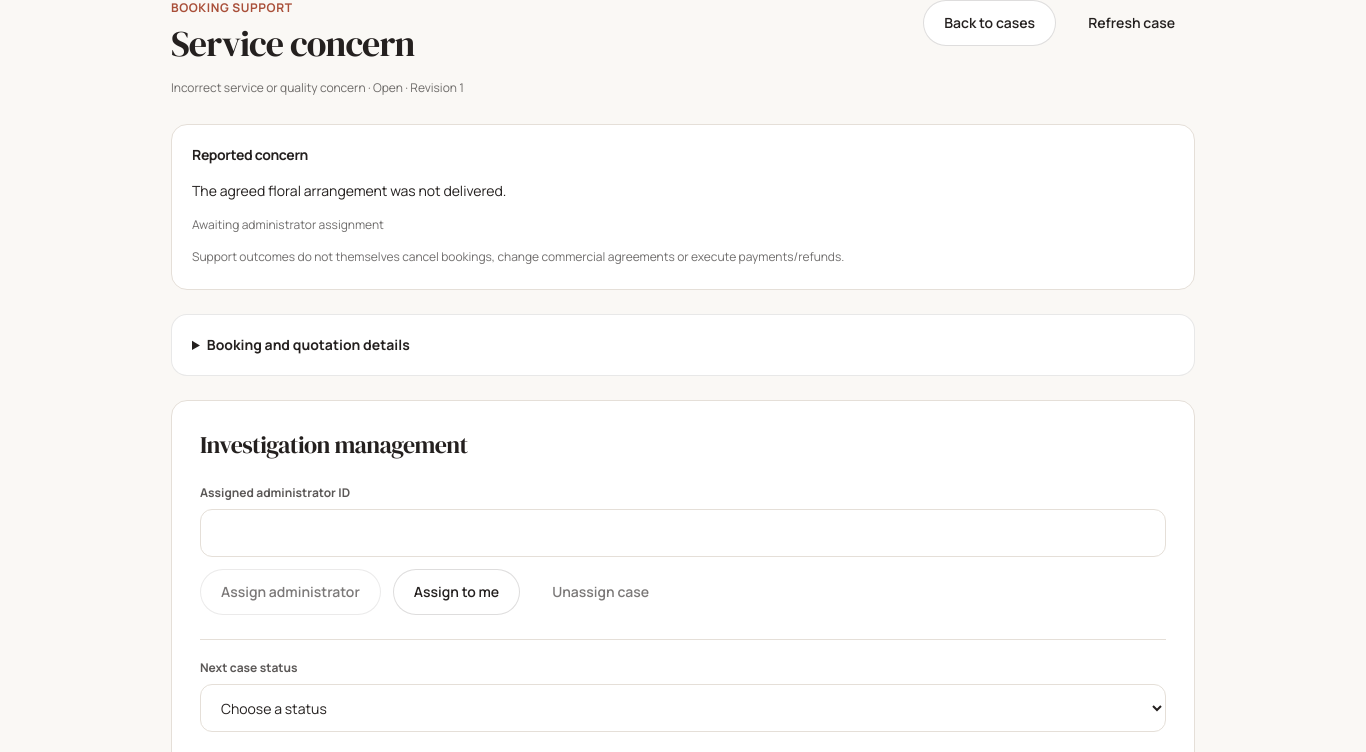
booking support interfaces › requires a public resolution decision before resolving a case
Expected: the heading "Service concern" is shown, [171,19,414,68]
Select "Resolved" in the dropdown labelled "Next case status" at coordinates (683, 708), box [200,684,1166,732]
(page scrolled)
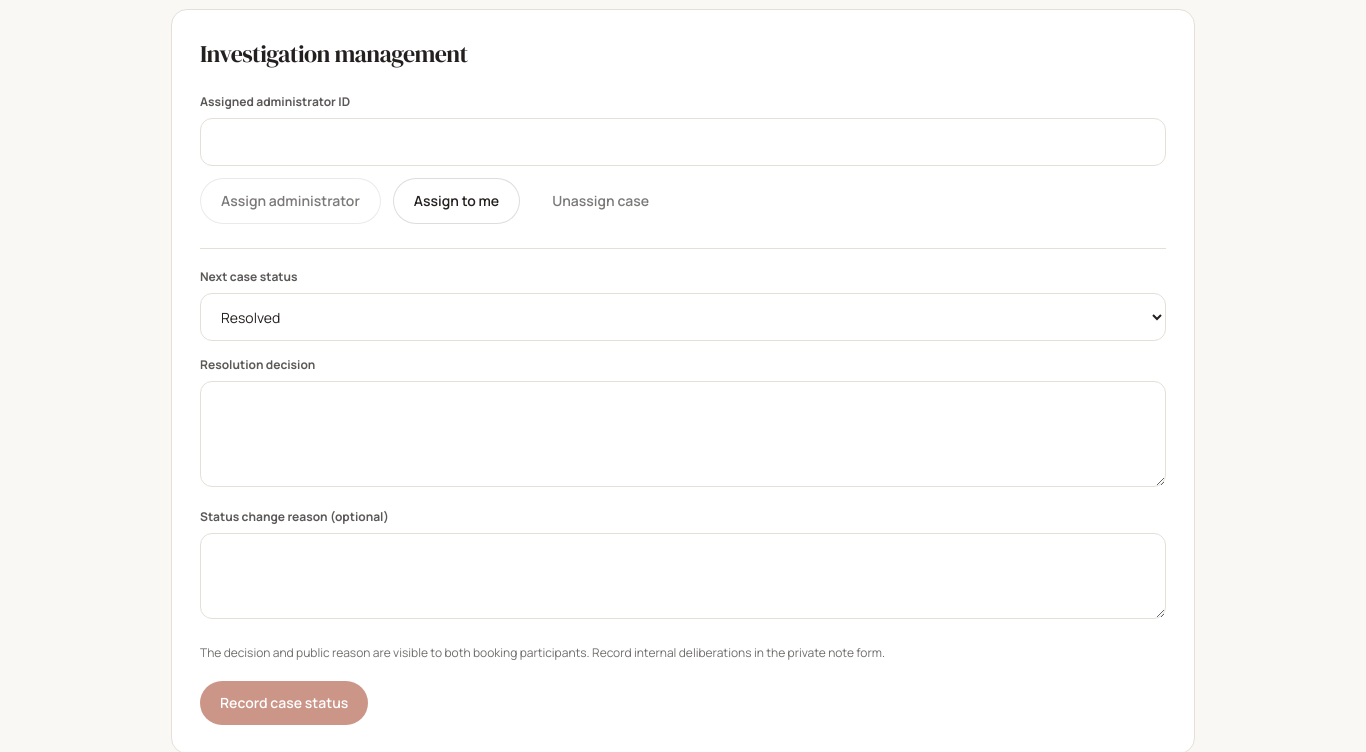
Expected: the button "Record case status" is disabled, [200,681,368,725]
Type "Scope reviewed with both parties." into the text box labelled "Resolution decision" at coordinates (683, 434), box [200,381,1166,487]
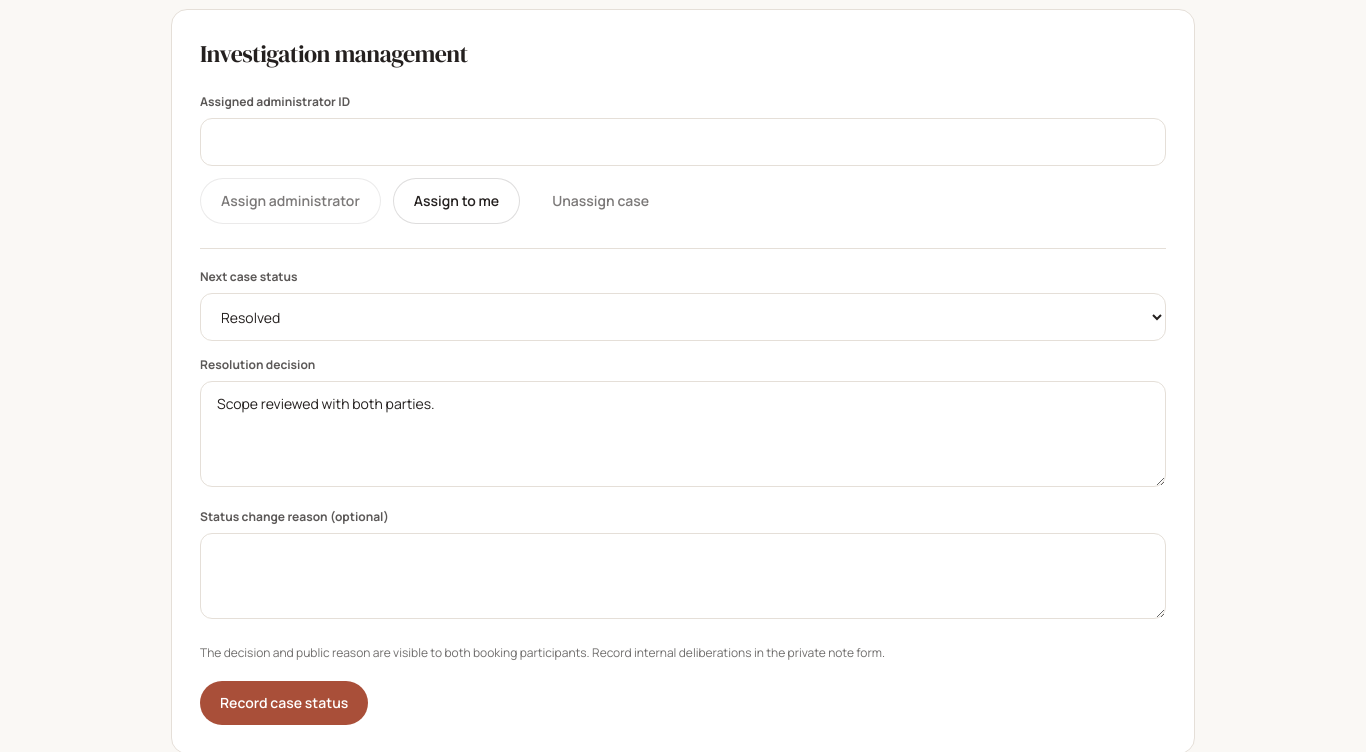
Click the button "Record case status" at coordinates (284, 703), box [200,681,368,725]
(page scrolled)
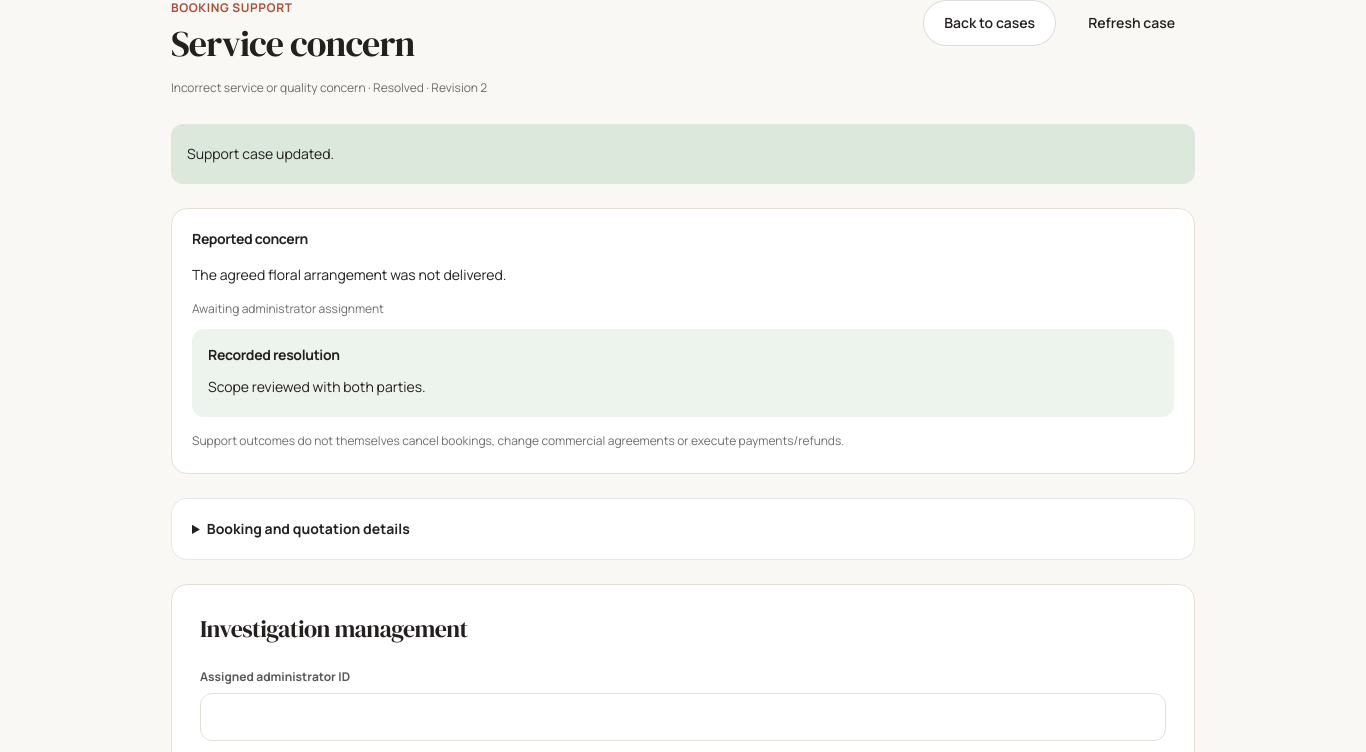
Expected: the heading "Recorded resolution" is shown, [208,345,340,364]
